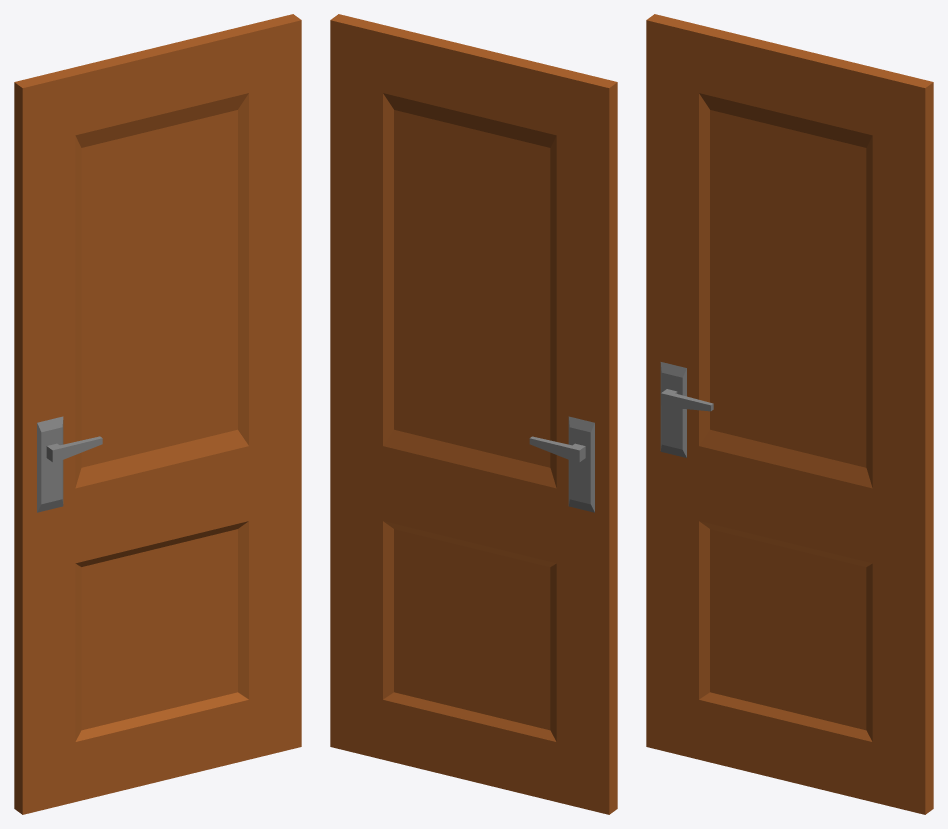
Rendered from door.fbx.
3 views of the same model, side by side, from view 1: azimuth 30°, elevation 25°; view 2: azimuth 150°, elevation 25°; view 3: azimuth 330°, elevation 25° (orthographic).
Visible parts, largest first — view 1: Room.033; view 2: Room.033; view 3: Room.033.
Part boxes in pixels (<box>): Room.033: <box>14,14,301,814</box>; Room.033: <box>330,14,617,814</box>; Room.033: <box>646,14,933,814</box>.
Bounding box in the file's own units: 38.64 × 96.16 × 5.67.
1 material, 1 textured.
